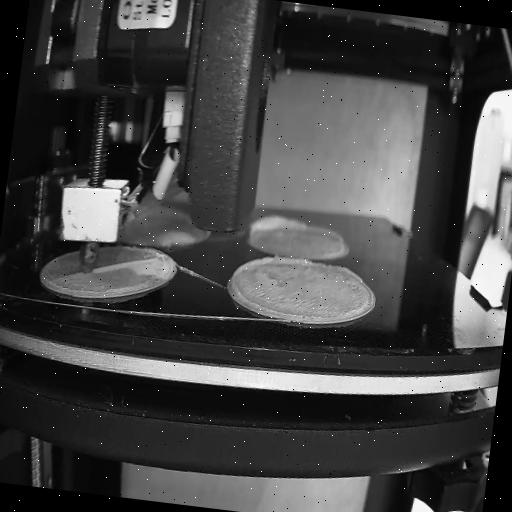over_extrusion: (227, 251, 316, 322), (91, 247, 160, 284), (248, 210, 310, 244), (308, 224, 345, 246), (332, 264, 364, 284)
